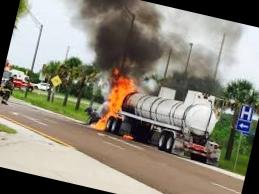Fire: (91, 68, 142, 133)
Smoke: (71, 0, 235, 103)
